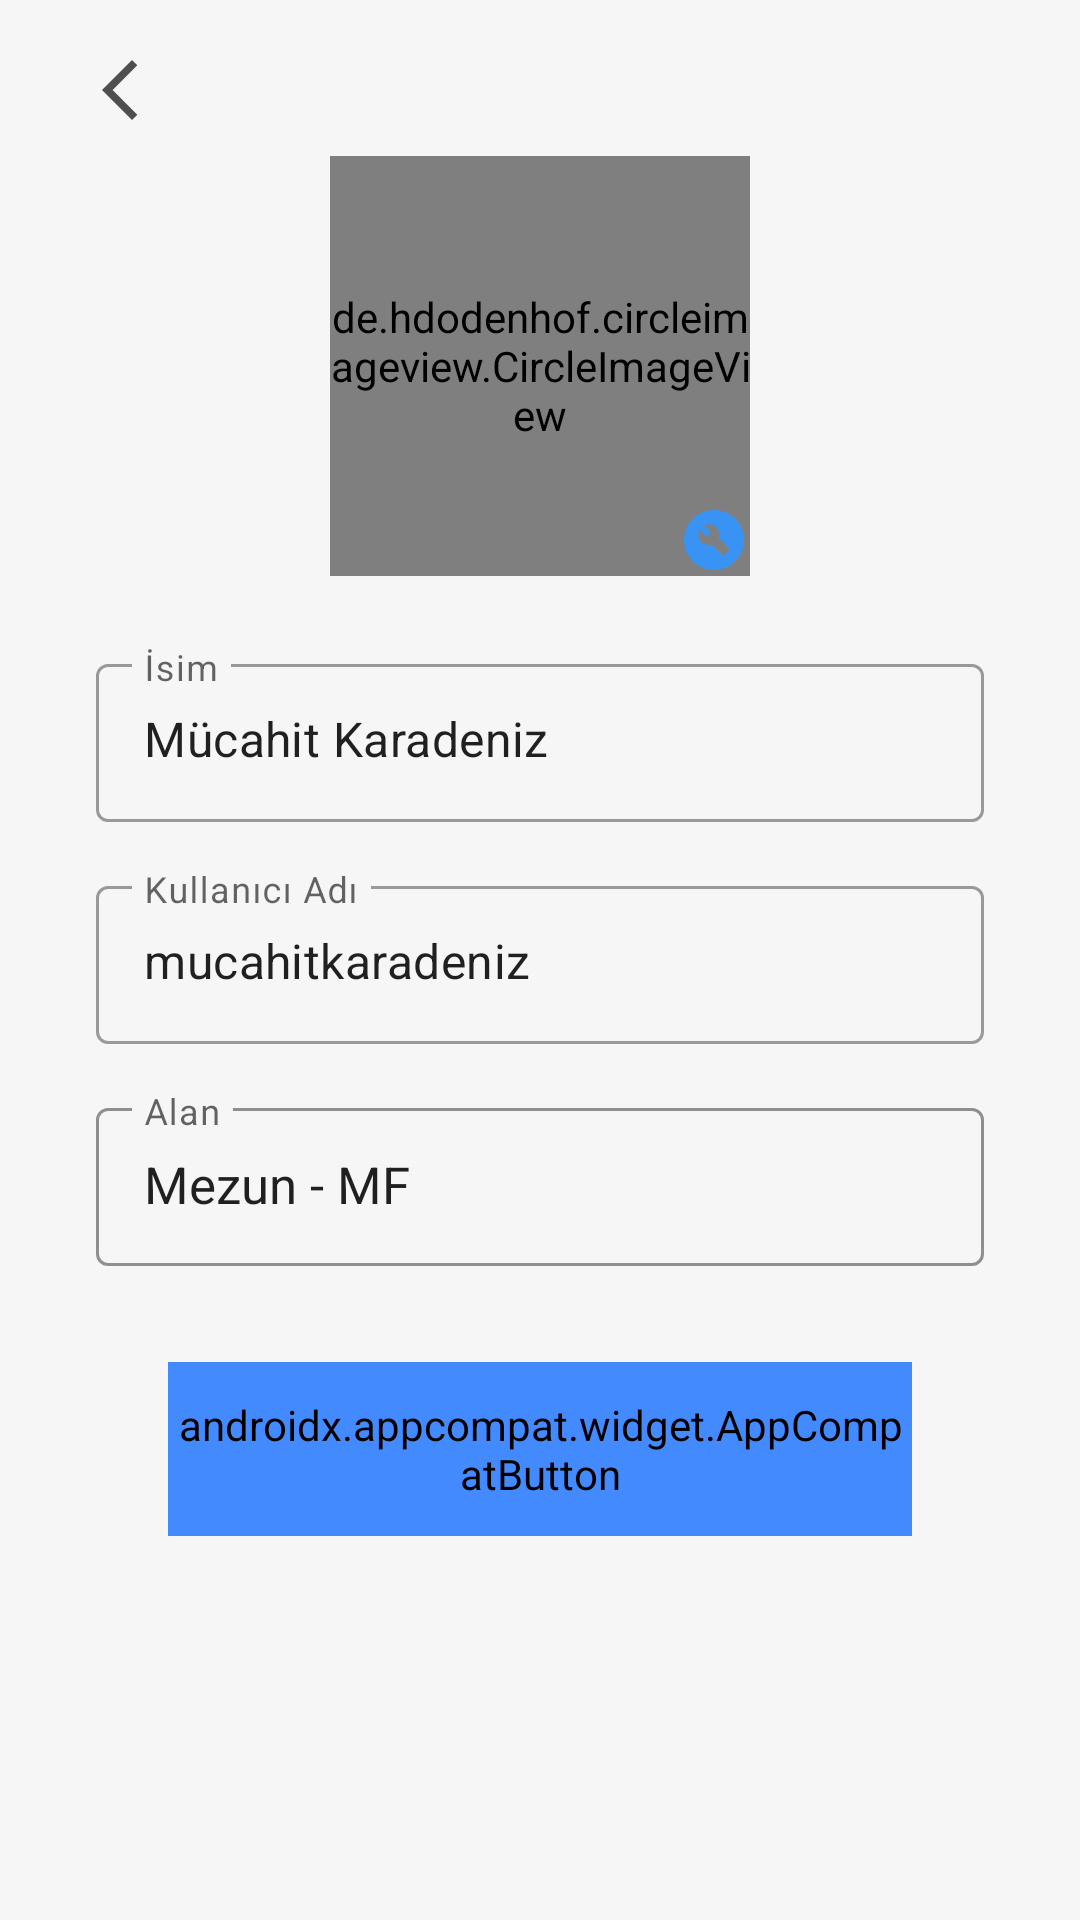

Icons on this 1080×1920 Android screen, each with the point to tap as (x=x, y=y):
back: (x=119, y=90)
build circle: (x=714, y=540)
